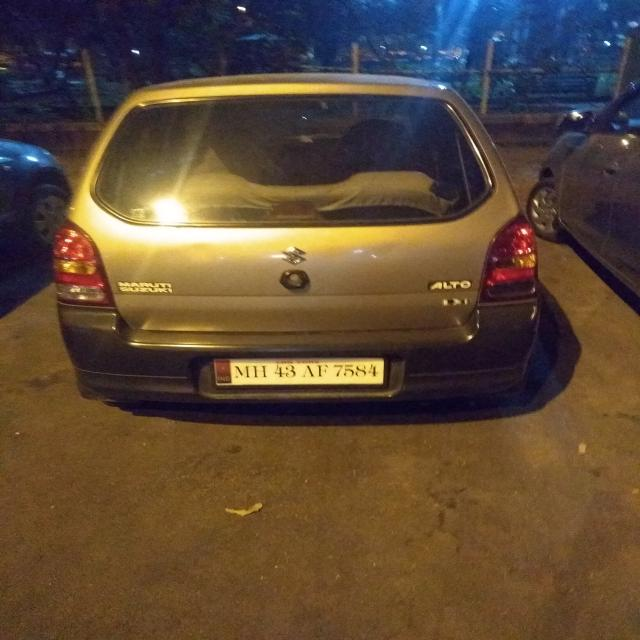Number-Plate: (212, 362, 377, 385)
